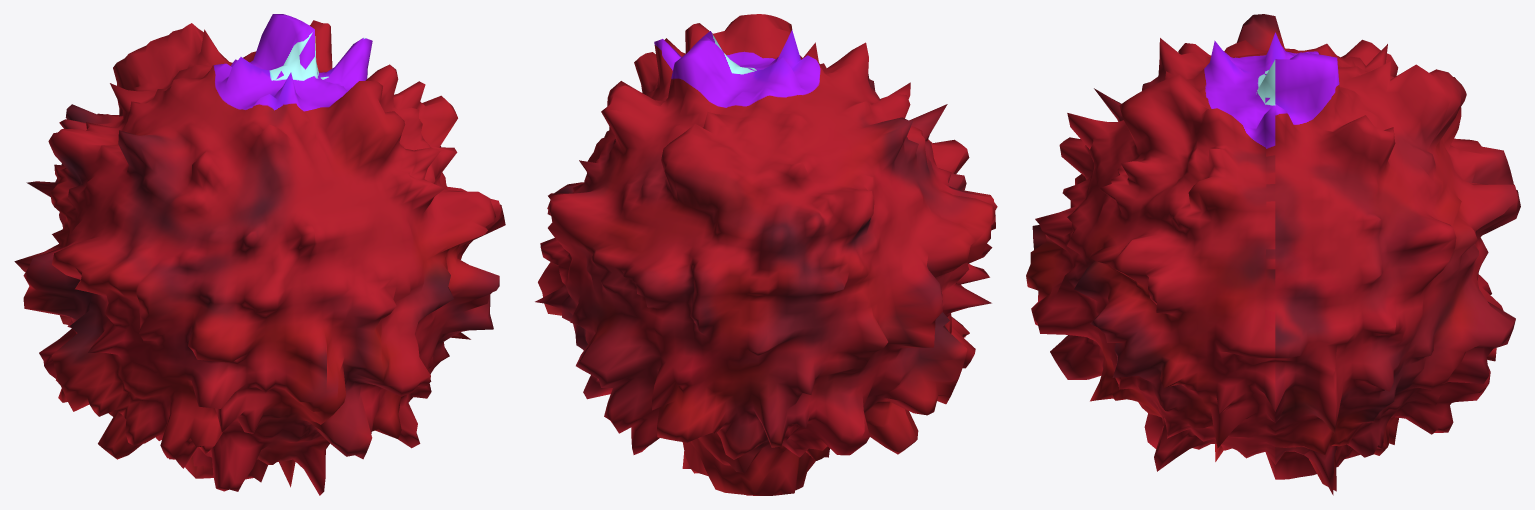
Rendered from Creature.FBX.
The picture shows the model from 3 angles, left to right: view 1: azimuth 30°, elevation 25°; view 2: azimuth 150°, elevation 25°; view 3: azimuth 270°, elevation 25°; orthographic projection. The views are drawn at different scales.
Parts seen in each view (by area): view 1: Box001; view 2: Box001; view 3: Box001.
Boxes of the visible parts, x1=… form: Box001: x1=14, y1=14, x2=505, y2=495; Box001: x1=535, y1=14, x2=997, y2=495; Box001: x1=1026, y1=14, x2=1520, y2=495.
Bounding box in the file's own units: 41.27 × 41.17 × 41.16.
Materials: 1 (1 with a texture image).
